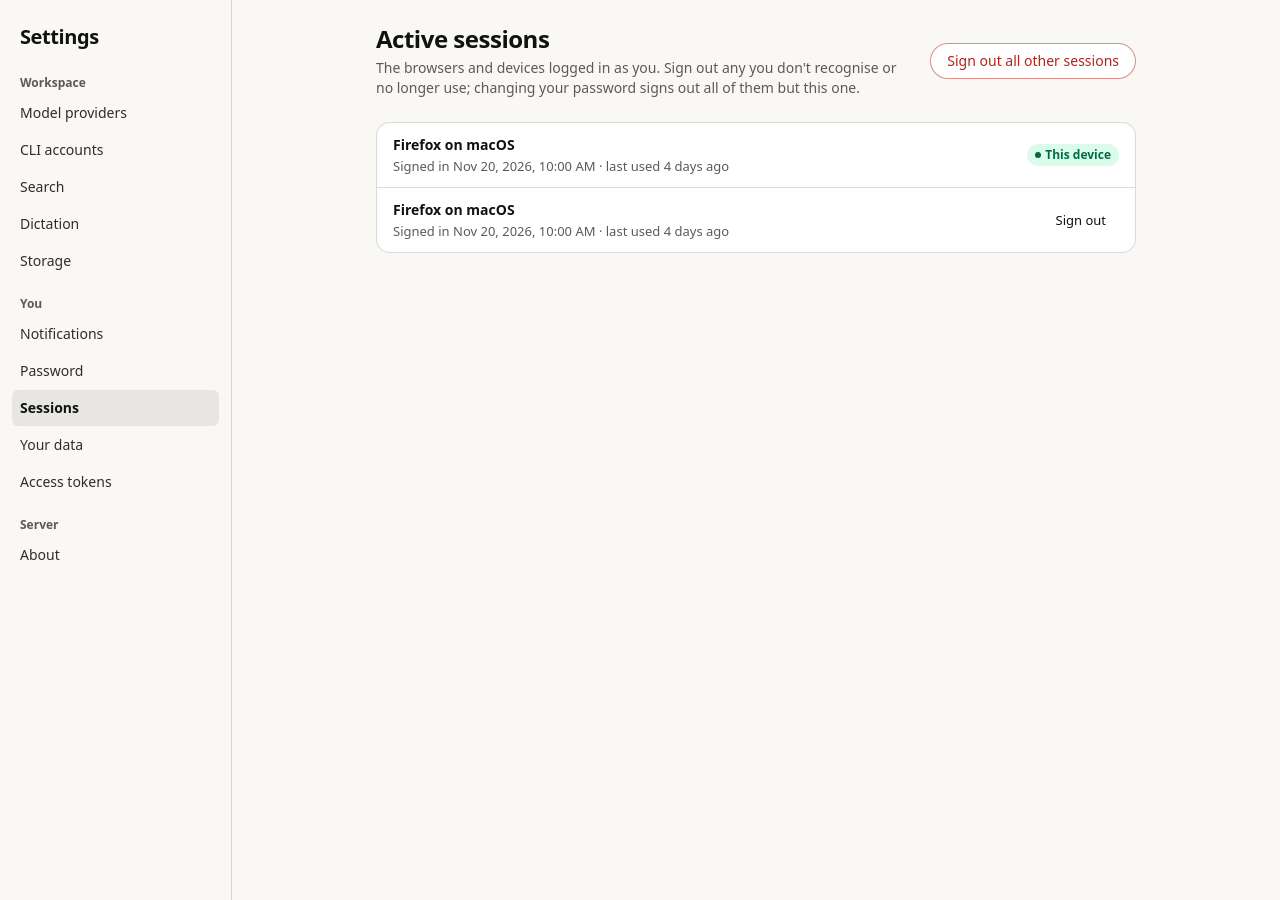
Test: a failed sign-out shows the translated error
expect the list named "Your sessions" is shown: met, box [377, 123, 1135, 252]
Click the button with aria-label "Sign out Firefox on macOS" at (1081, 220), box [1042, 206, 1119, 234]
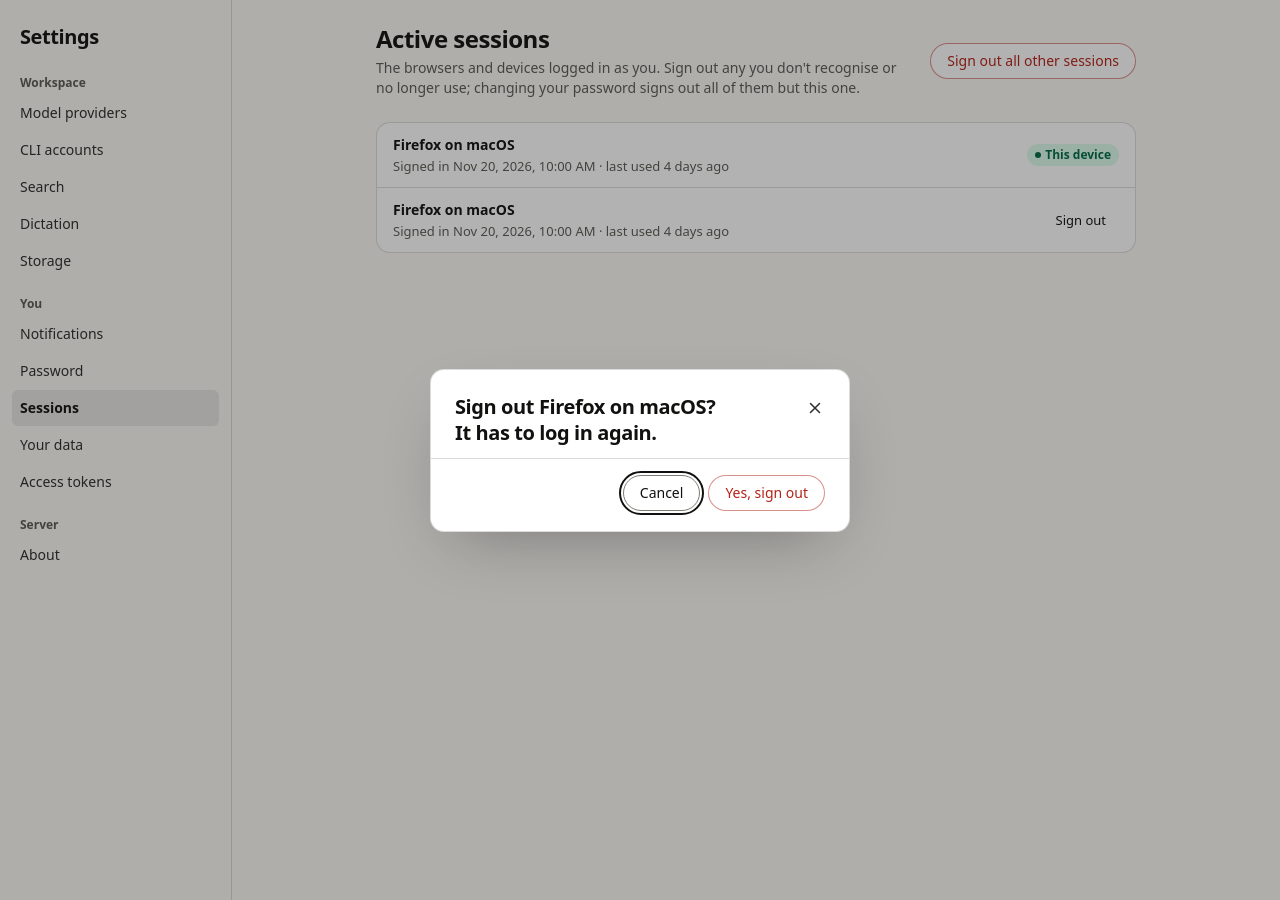
Click the button "Yes, sign out" at (767, 492), box [708, 474, 825, 510]
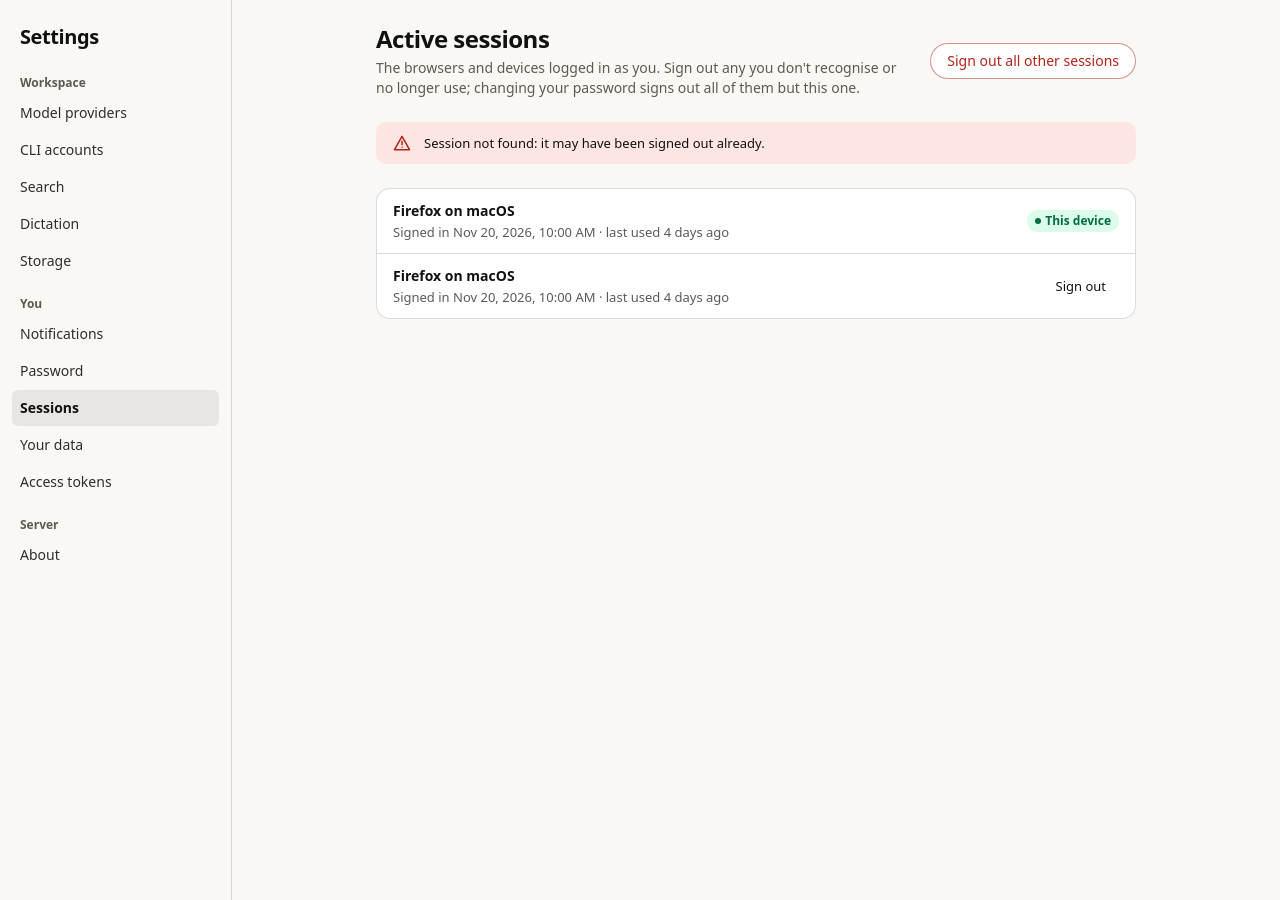
expect the text "Session not found: it may have been signed out already." is shown: met, box [424, 134, 765, 152]
